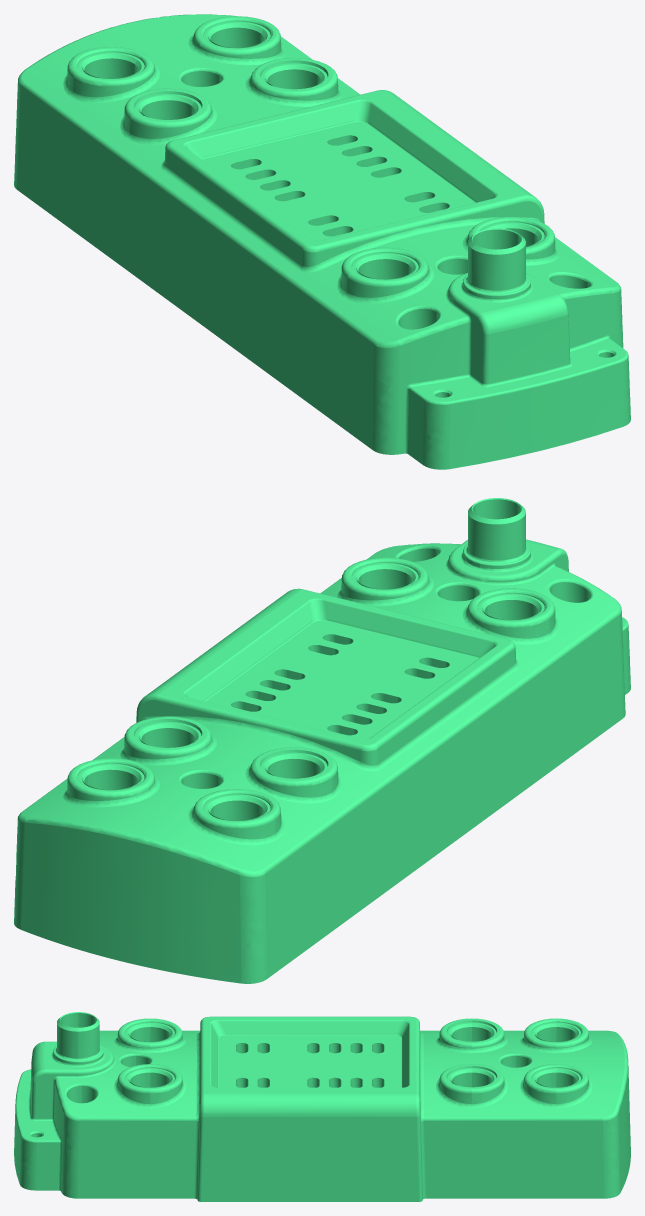
3 renders of one model, top to bottom at view 1: azimuth 30°, elevation 25°; view 2: azimuth 150°, elevation 25°; view 3: azimuth 270°, elevation 25°, orthographic. The views are drawn at different scales.
Visible parts, largest first — view 1: empty_2; view 2: empty_2; view 3: empty_2.
Boxes of the visible parts, <box> form: empty_2: <box>14,14,630,469</box>; empty_2: <box>14,498,630,983</box>; empty_2: <box>14,1012,630,1201</box>.
Size of the model in its own units: 61.64 by 41 by 172.
